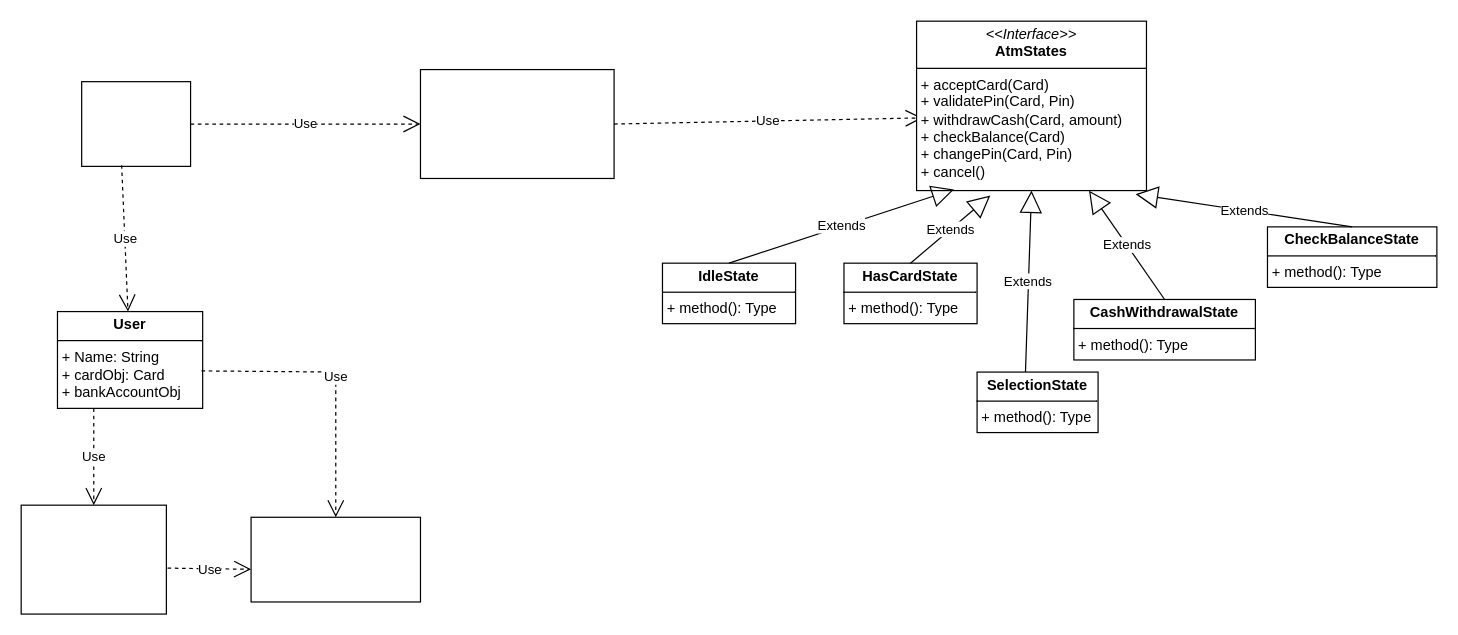
This 1458x635 diagram has some shape labels left out. Here are the shapes that lost their labels. From the top down, the box of each, then its label:
(80, 80, 191, 166): AtmManager + AtmObj + UserObj
(419, 68, 614, 178): ATM + AtmStatesObj + method(): Type
(20, 504, 166, 614): Card + cardNumber: INT + cardPin: INT + bankAccountObj + expiryDate: Date
(250, 516, 420, 602): BankAccount + accountNumber: INT + balance: double
